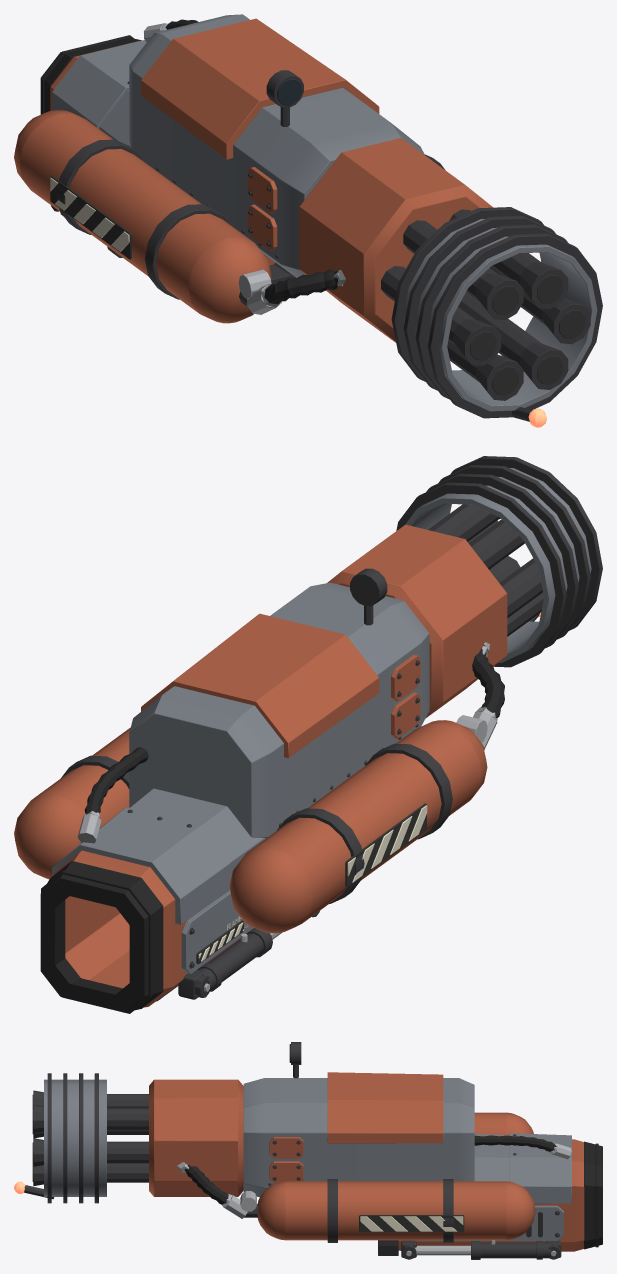
The model's file is flamerevolver.glb.
3 renders of one model, top to bottom at view 1: azimuth 30°, elevation 25°; view 2: azimuth 150°, elevation 25°; view 3: azimuth 270°, elevation 25°, orthographic. The views are drawn at different scales.
Visible parts, largest first — view 1: Body; view 2: Body; view 3: Body.
Part boxes in pixels (x1,y1,x2,y2): Body: (14,14,602,427); Body: (14,456,602,1013); Body: (14,1042,602,1259).
Bounding box in the file's own units: 0.432 × 0.4 × 1.12.
